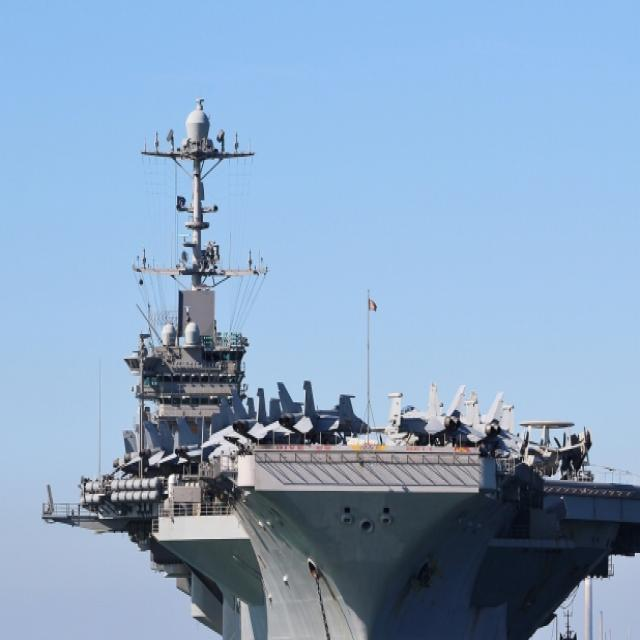Portanaves: (34, 91, 640, 640)
